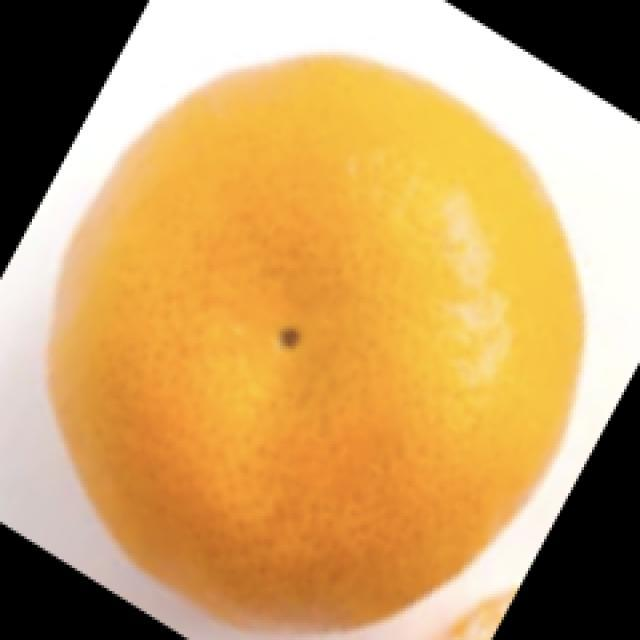Orange: (44, 50, 585, 637)
